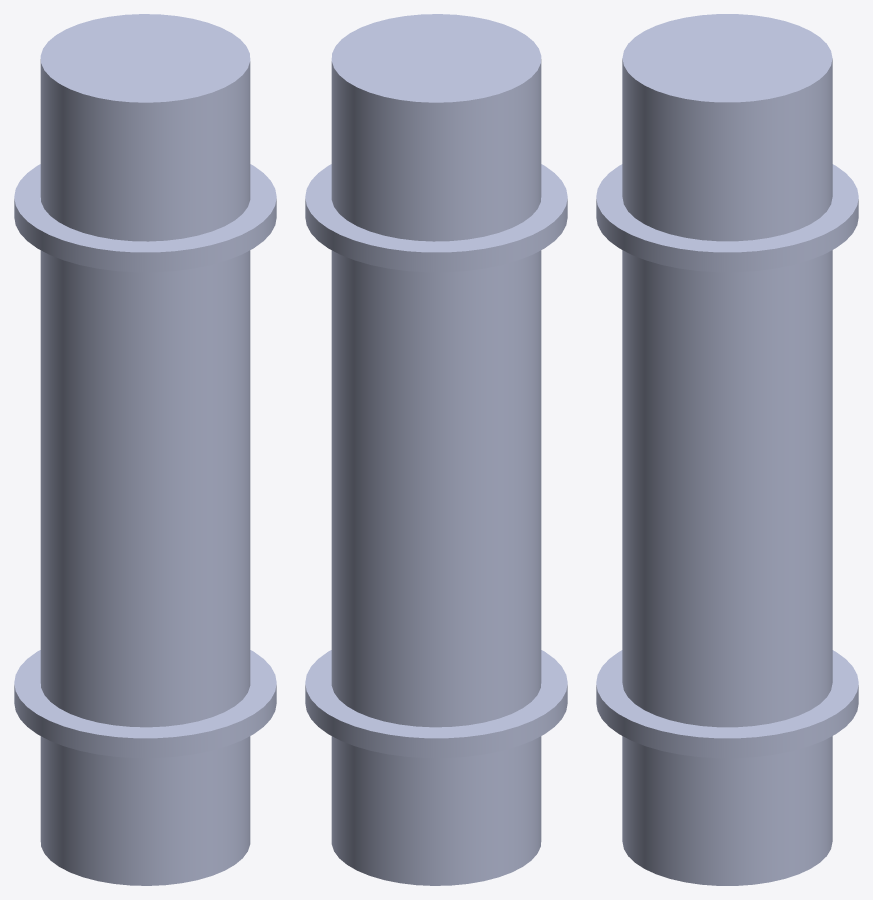
The model's file is Spider_Support.glb.
3 renders of one model, left to right at view 1: azimuth 30°, elevation 25°; view 2: azimuth 150°, elevation 25°; view 3: azimuth 270°, elevation 25°, orthographic.
Visible parts, largest first — view 1: Spider Support; view 2: Spider Support; view 3: Spider Support.
Boxes of the visible parts, x1,y1,x2,y2 form: Spider Support: [14, 14, 276, 885]; Spider Support: [305, 14, 567, 885]; Spider Support: [596, 14, 858, 885].
Size of the model in its own units: 0.0304 by 0.1003 by 0.0305.
